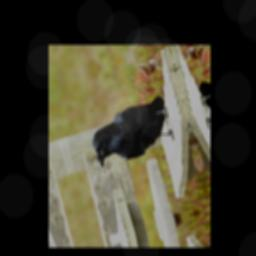Crow: (86, 94, 177, 171)
